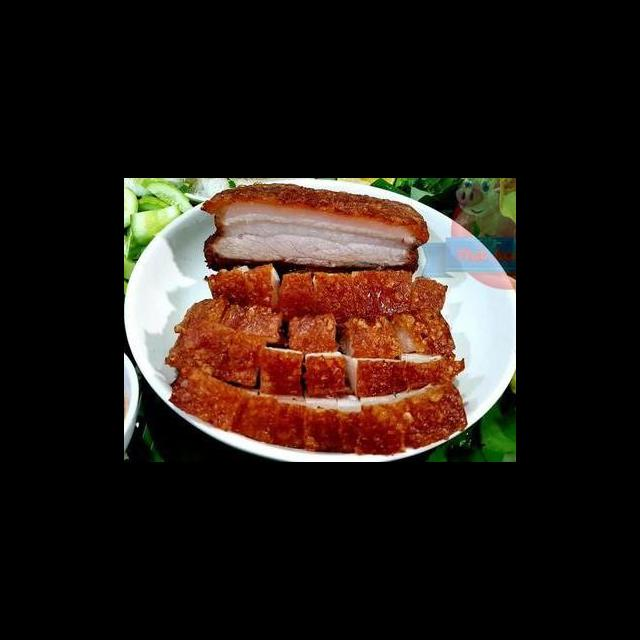thit heo quay: (197, 180, 432, 277), (161, 313, 270, 390), (272, 265, 416, 322), (165, 361, 259, 442), (169, 293, 287, 350), (229, 386, 308, 453), (397, 378, 469, 450), (201, 262, 285, 317), (350, 392, 412, 458), (386, 302, 458, 358), (301, 392, 363, 457), (341, 347, 412, 400), (298, 346, 358, 403), (396, 347, 466, 395), (339, 313, 404, 363), (254, 343, 306, 401), (283, 310, 342, 357), (405, 272, 450, 321)
